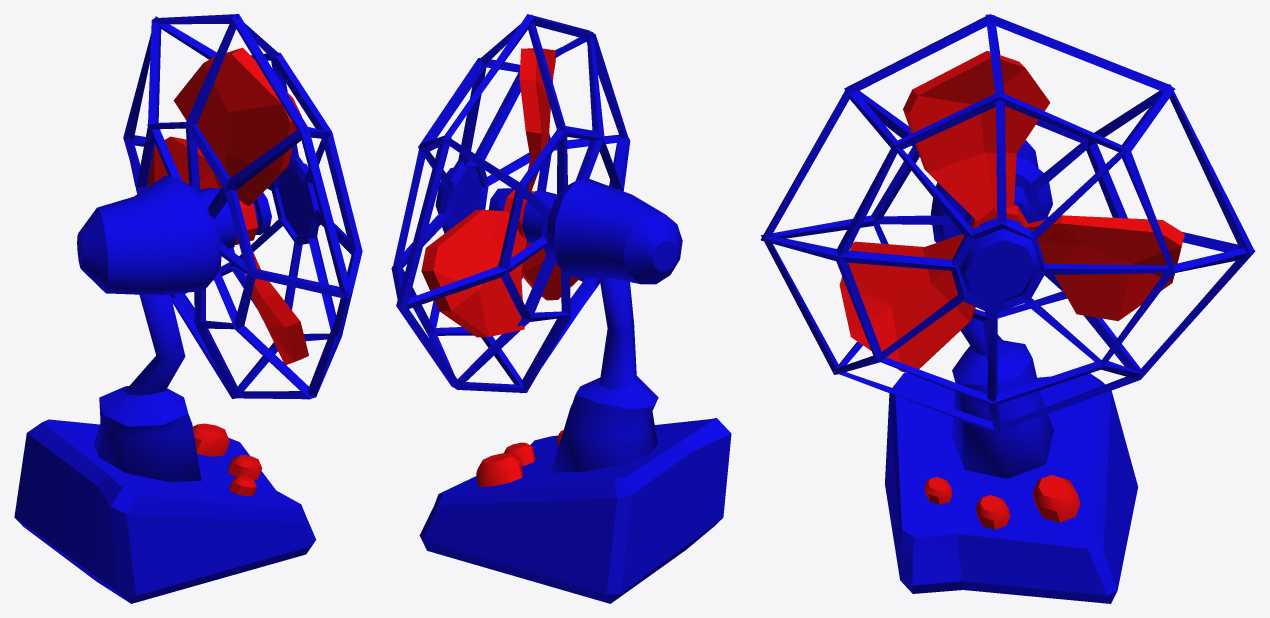
File: SM_Fan.fbx
3 renders of one model, left to right at view 1: azimuth 30°, elevation 25°; view 2: azimuth 150°, elevation 25°; view 3: azimuth 270°, elevation 25°, orthographic. The views are drawn at different scales.
Visible parts, largest first — view 1: SM_FanBase, SM_FanPalms; view 2: SM_FanBase, SM_FanPalms; view 3: SM_FanBase, SM_FanPalms.
Part boxes in pixels (x1,y1,x2,y2): SM_FanBase: [14, 14, 362, 603]; SM_FanPalms: [147, 47, 308, 364]; SM_FanBase: [391, 14, 731, 603]; SM_FanPalms: [421, 48, 580, 337]; SM_FanBase: [760, 14, 1255, 603]; SM_FanPalms: [839, 50, 1184, 371].
Size of the model in its own units: 42.72 by 87.87 by 69.95.
